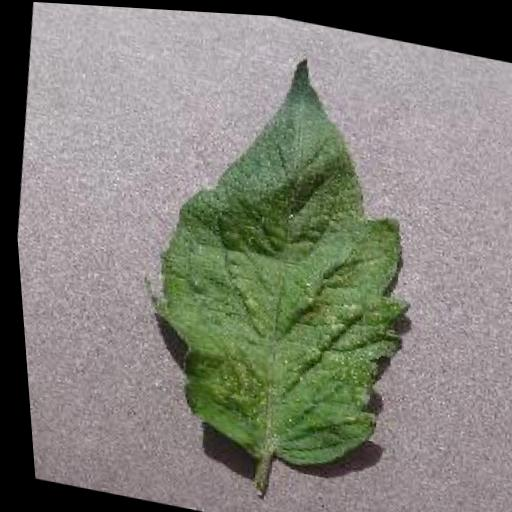Spider Mites: (117, 25, 448, 484)
